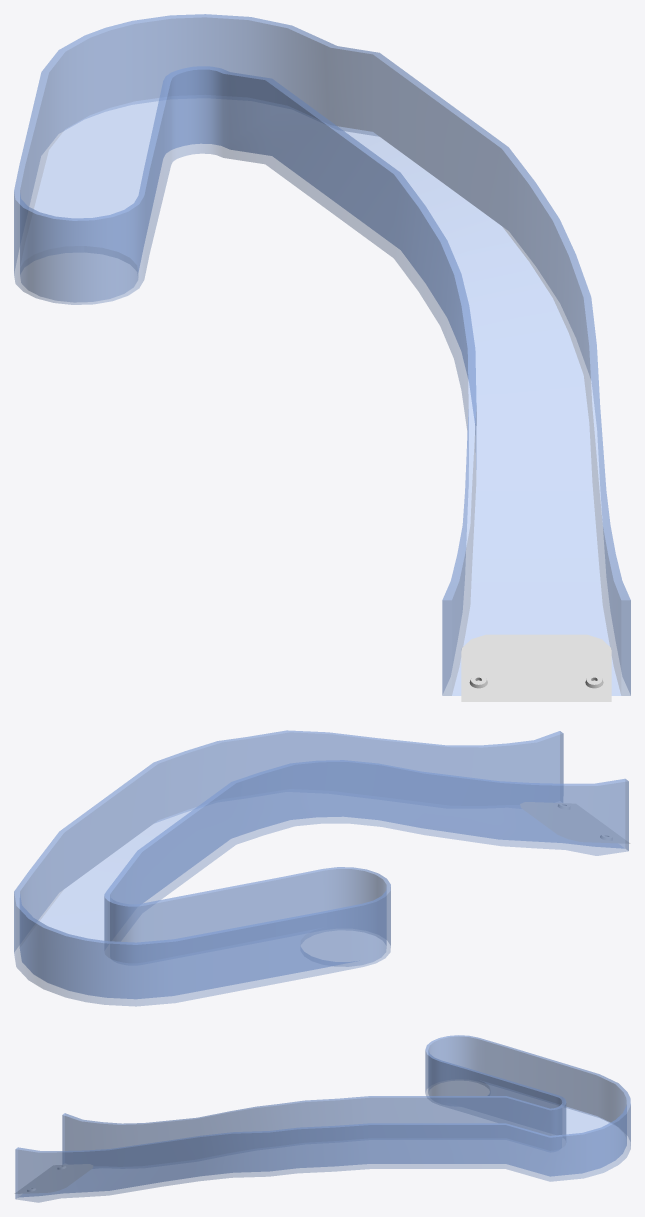
File: Shortcut Ramp.FBX
3 renders of one model, top to bottom at view 1: azimuth 30°, elevation 25°; view 2: azimuth 150°, elevation 25°; view 3: azimuth 270°, elevation 25°, orthographic. The views are drawn at different scales.
Parts seen in each view (by area): view 1: Ramp, Plate; view 2: Ramp, Plate; view 3: Ramp, Plate.
Boxes of the visible parts, x1=… form: Ramp: x1=14, y1=14, x2=630, y2=695; Plate: x1=461, y1=634, x2=611, y2=701; Ramp: x1=14, y1=730, x2=628, y2=1006; Plate: x1=520, y1=802, x2=630, y2=843; Ramp: x1=15, y1=1035, x2=630, y2=1202; Plate: x1=14, y1=1164, x2=92, y2=1193.
Size of the model in its own units: 0.1271 by 0.075 by 0.323.
